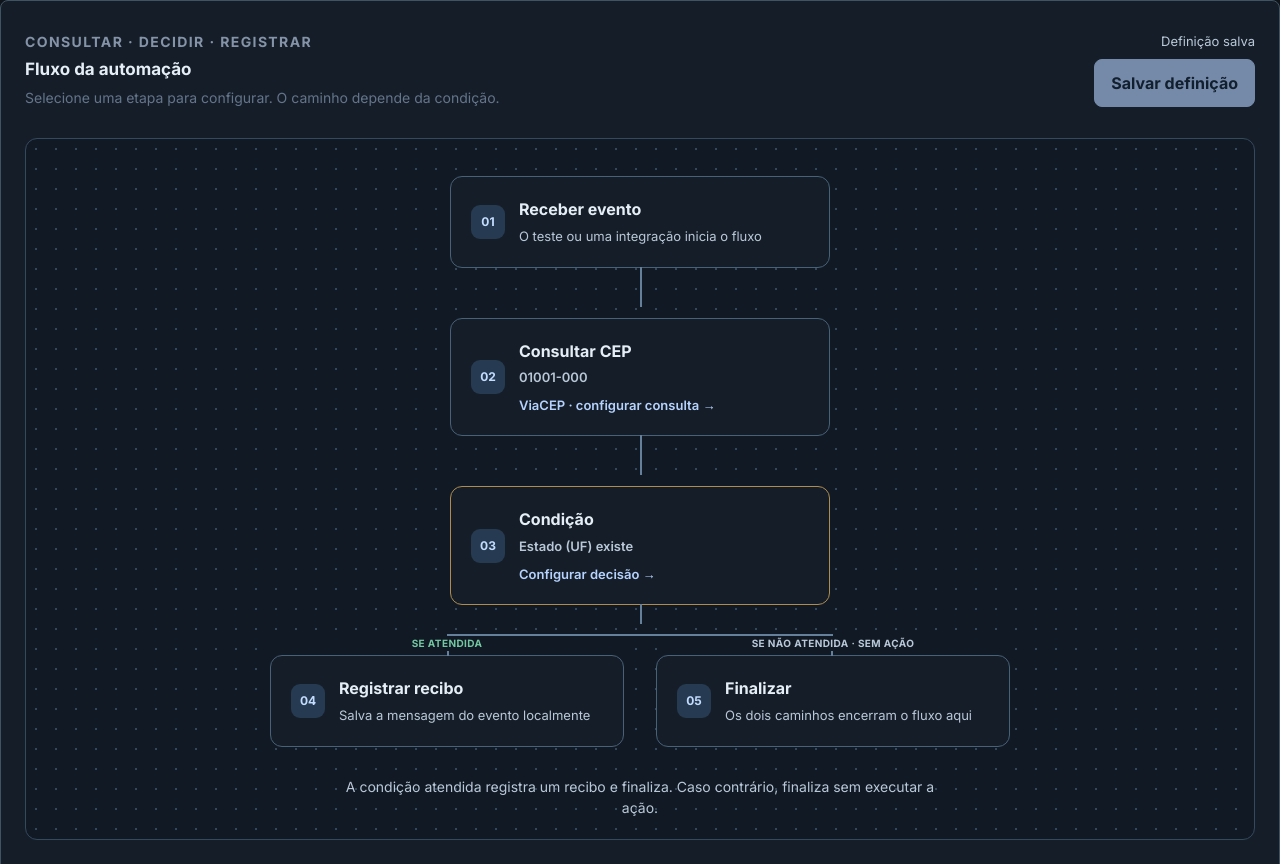
it: ViaCEP editor integration › edits the condition source and applies only to the draft
Click the button "03 Condição Estado (UF) existe Configurar decisão →".
click(488, 546)  # box [451,488,829,604]
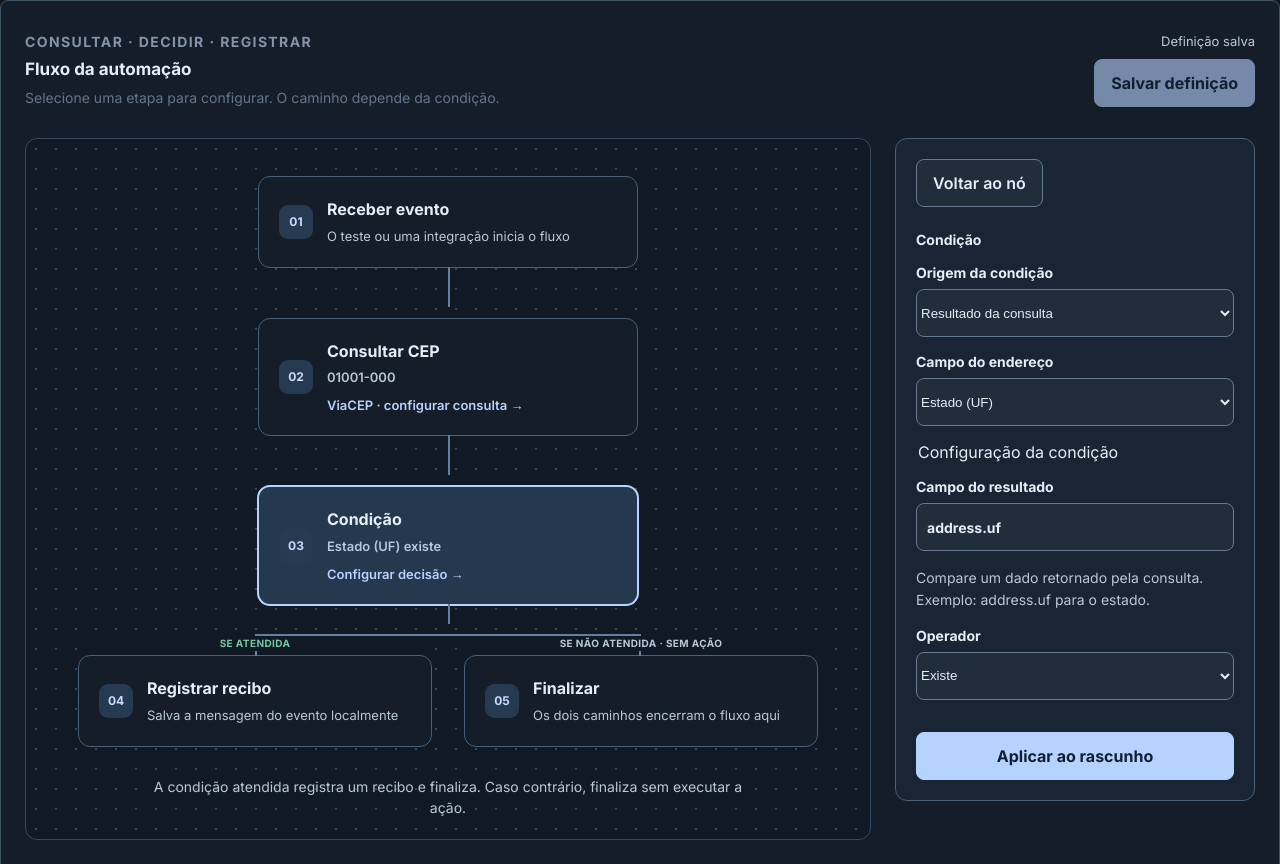
Select "Evento" in the dropdown labelled "Origem da condição" at {"x": 1075, "y": 313}, box [916,289,1234,337]
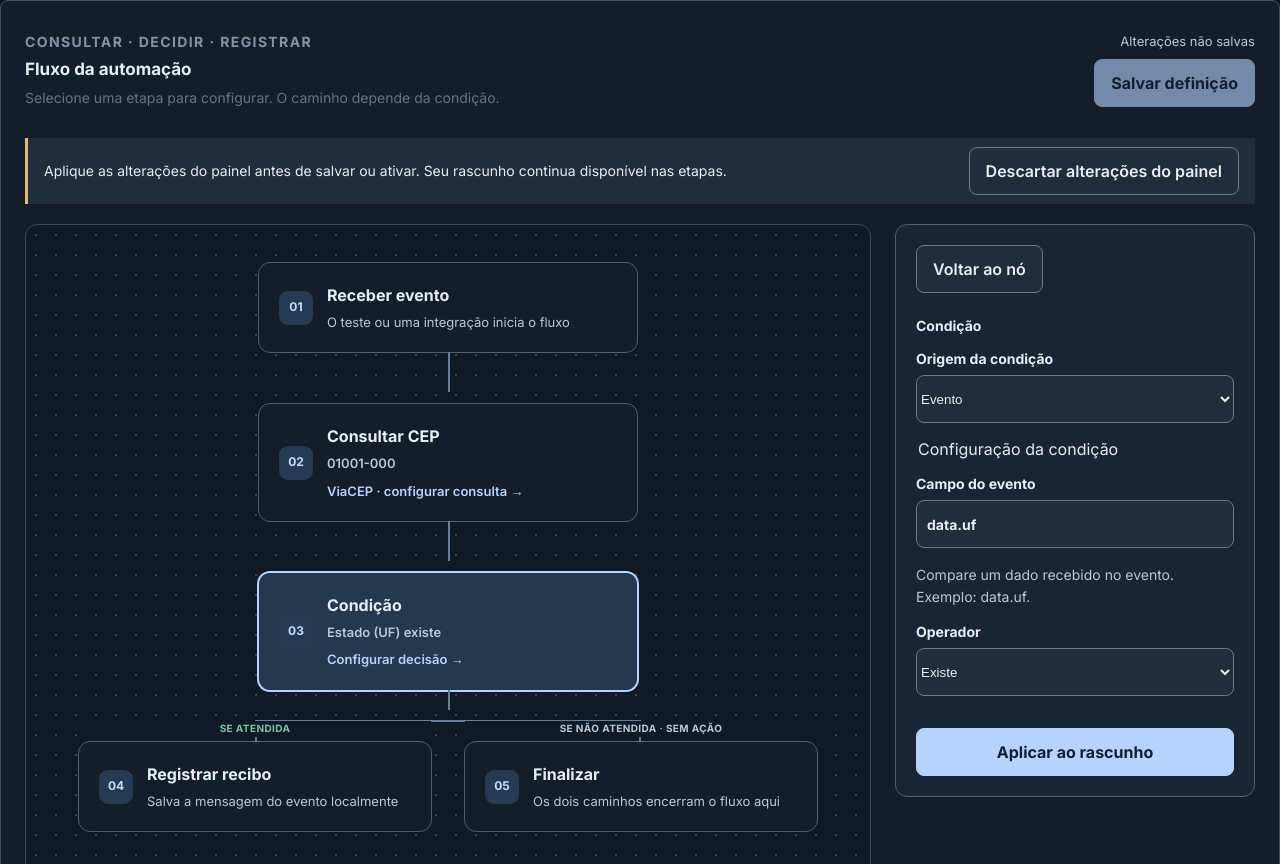
Click the button "Aplicar ao rascunho".
click(1075, 752)  # box [916,728,1234,776]
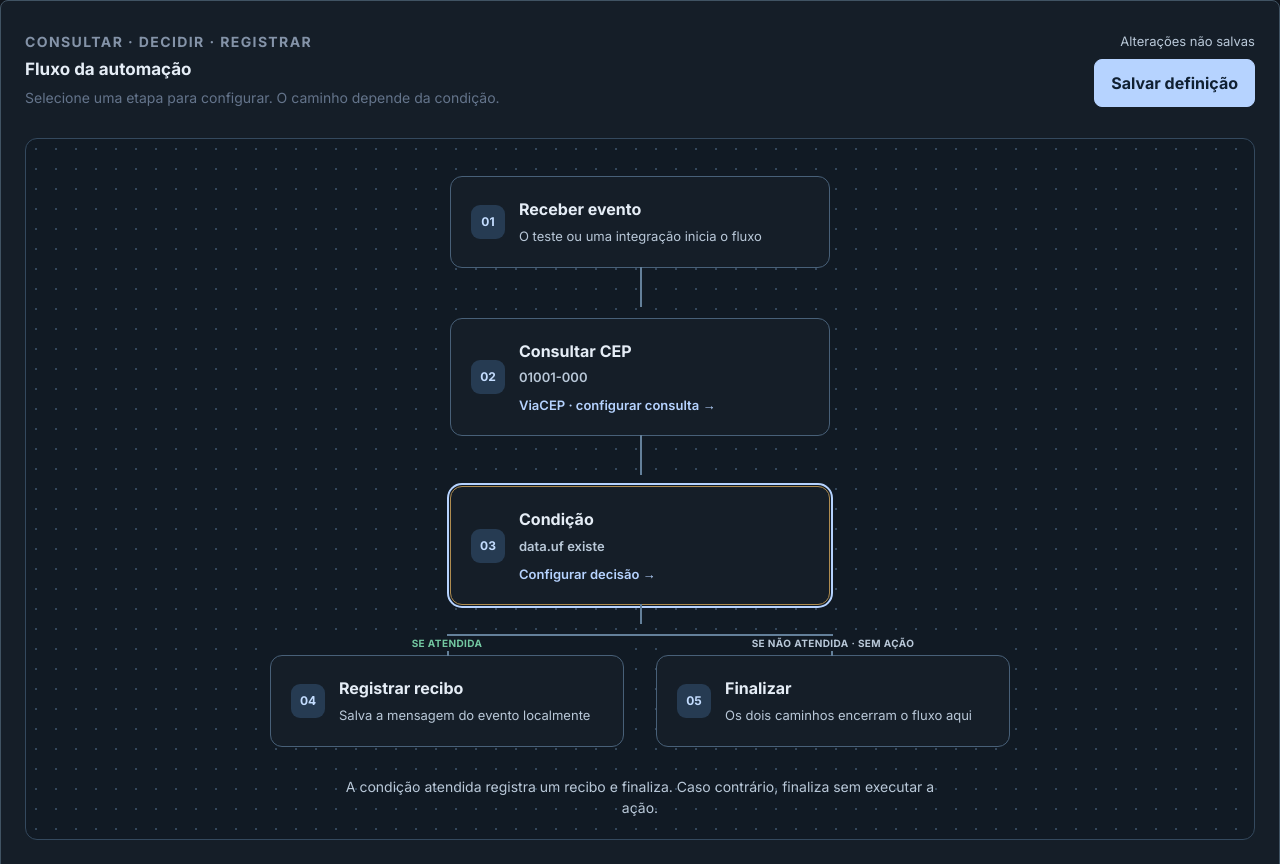
Expected: the button "03 Condição data.uf existe Configurar decisão →" is shown, [451,488,829,604]
Expected: the button "Salvar definição" is enabled, [1094,59,1255,107]
